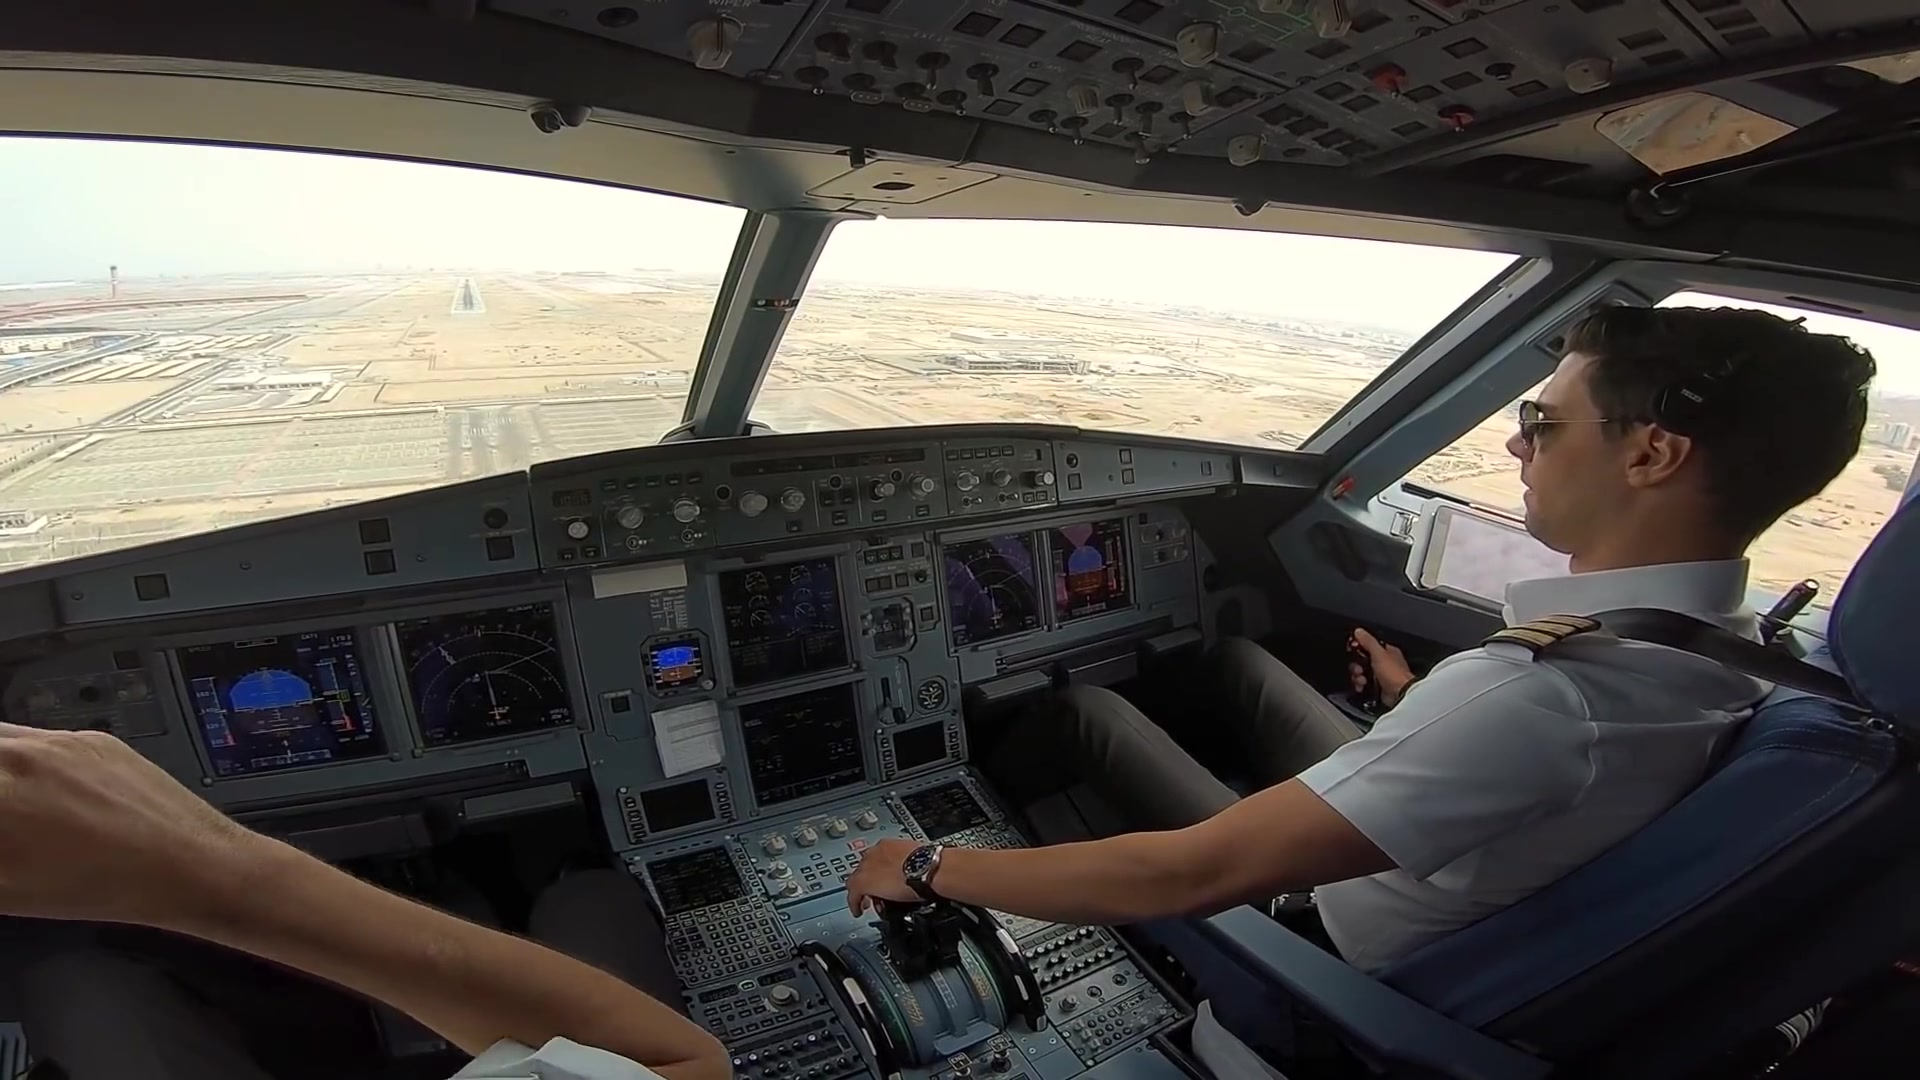runway: (451, 278, 487, 316)
